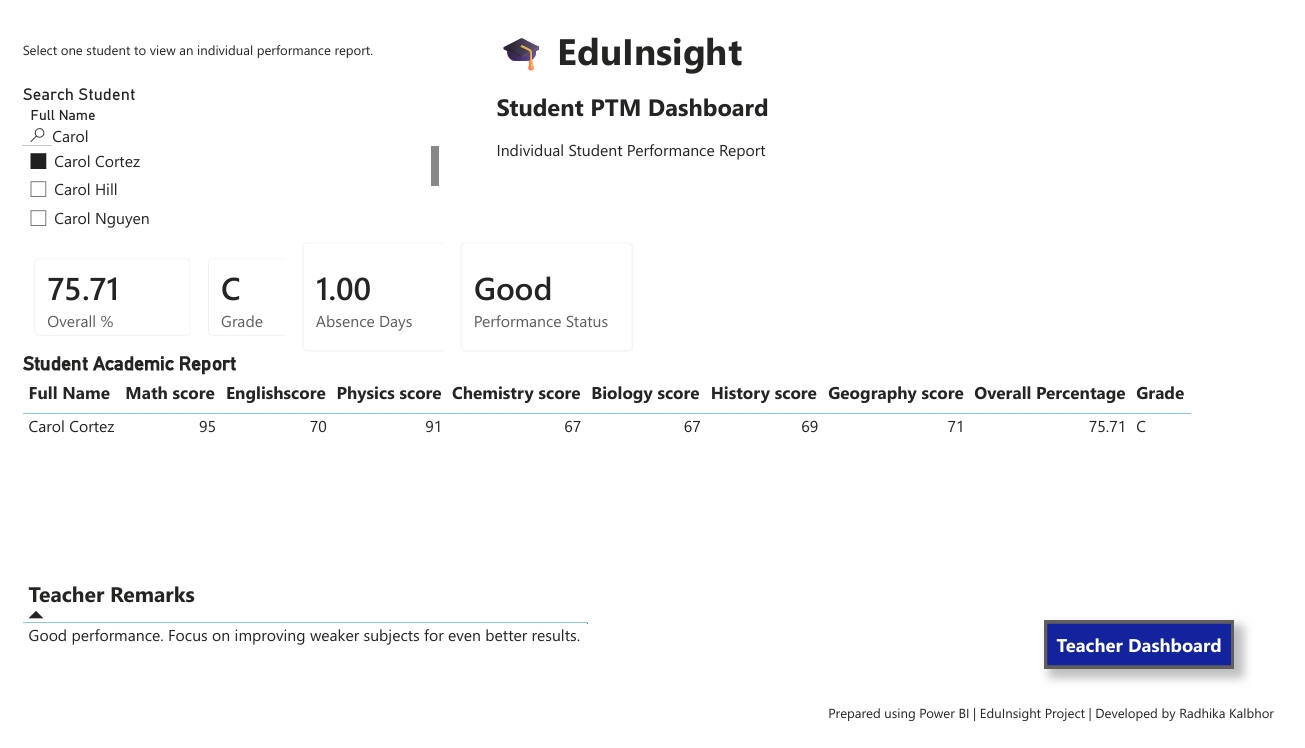

This screenshot's page, from the dashboard's own definition file:
{"tool":"powerbi","page":{"name":"Student PTM ","canvas":[1280,720],"ordinal":2},"visuals":[{"type":"textbox","box":[480,0,304,160],"z":0},{"type":"slicer","title":"Search Student","fields":{"Values":["student_performance_transformed.Full Name"]},"box":[0,64,432,160],"z":1000},{"type":"cardVisual","fields":{"Data":["Min(student_performance_transformed.Grade)"]},"box":[176,224,128,112],"z":2000},{"type":"cardVisual","fields":{"Data":["Avg(student_performance_transformed.absence_days)"]},"box":[272,208,208,144],"z":3000},{"type":"tableEx","title":"Student Academic Report","fields":{"Values":["student_performance_transformed.Full Name","Sum(student_performance_transformed.math_score)","Sum(student_performance_transformed.english_score)","Sum(student_performance_transformed.physics_score)","Sum(student_performance_transformed.chemistry_score)","Sum(student_performance_transformed.biology_score)","Sum(student_performance_transformed.history_score)","Sum(student_performance_transformed.geography_score)","student_performance_transformed.Overall Percentage","student_performance_transformed.Grade"]},"box":[0,336,1280,208],"z":4000},{"type":"textbox","box":[816,688,464,32],"z":5000},{"type":"cardVisual","fields":{"Data":["Min(student_performance_transformed.Performance Status)"]},"box":[432,208,208,144],"z":6000},{"type":"tableEx","fields":{"Values":["student_performance_transformed.Teacher Remarks"]},"box":[0,560,1280,128],"z":7000},{"type":"cardVisual","fields":{"Data":["Avg(student_performance_transformed.Overall Percentage)"]},"box":[0,224,192,112],"z":8000},{"type":"textbox","box":[0,16,432,32],"z":8001},{"type":"actionButton","box":[1040,608,192,48],"z":8002}]}

Visuals, with their boxes in screenshot pixels (x1, y1, x2, y2), scaled from the page's 1280x720 canvas onto the 1305x748 screenshot:
textbox: [x1=489, y1=0, x2=799, y2=166]
"Search Student" slicer: [x1=0, y1=66, x2=440, y2=233]
cardVisual - Min(student_performance_transformed.Grade): [x1=179, y1=233, x2=310, y2=349]
cardVisual - Avg(student_performance_transformed.absence_days): [x1=277, y1=216, x2=489, y2=366]
"Student Academic Report" tableEx: [x1=0, y1=349, x2=1304, y2=565]
textbox: [x1=832, y1=715, x2=1304, y2=747]
cardVisual - Min(student_performance_transformed.Performance Status): [x1=440, y1=216, x2=652, y2=366]
tableEx - student_performance_transformed.Teacher Remarks: [x1=0, y1=582, x2=1304, y2=715]
cardVisual - Avg(student_performance_transformed.Overall Percentage): [x1=0, y1=233, x2=196, y2=349]
textbox: [x1=0, y1=17, x2=440, y2=50]
actionButton: [x1=1060, y1=632, x2=1256, y2=682]
